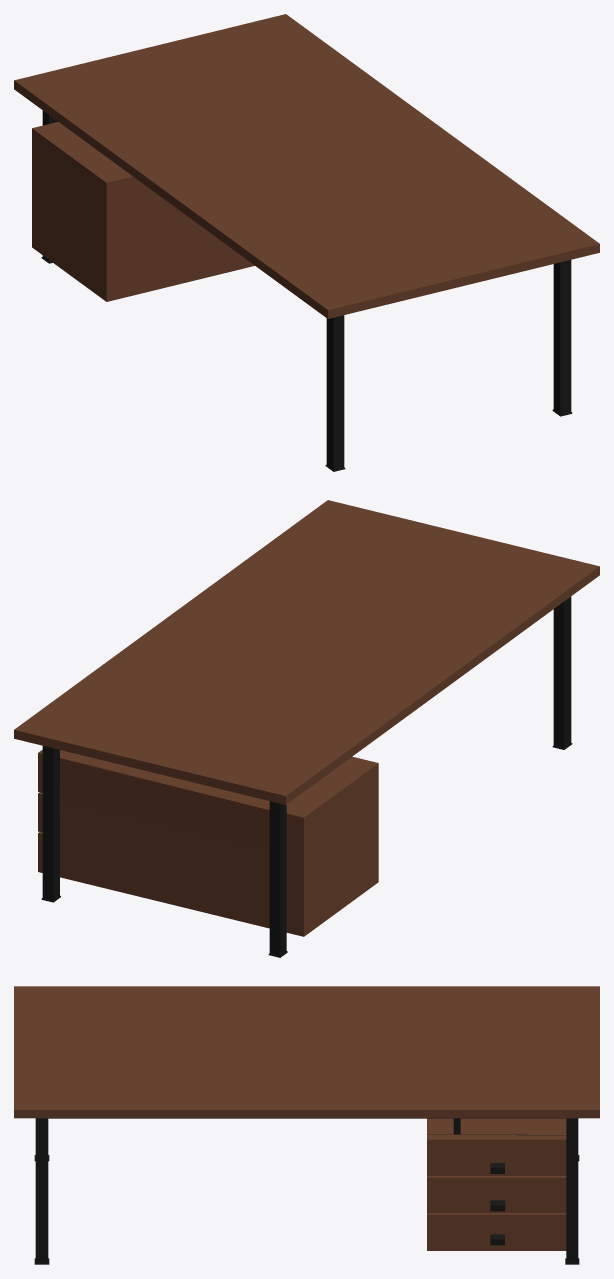
Rendered from Bureau-annees-80.glb.
3 renders of one model, top to bottom at view 1: azimuth 30°, elevation 25°; view 2: azimuth 150°, elevation 25°; view 3: azimuth 270°, elevation 25°, orthographic. The views are drawn at different scales.
Visible parts, largest first — view 1: Cube; view 2: Cube; view 3: Cube.
Boxes of the visible parts, x1=… form: Cube: x1=14, y1=14, x2=599, y2=471; Cube: x1=14, y1=500, x2=599, y2=957; Cube: x1=14, y1=986, x2=599, y2=1264.
Size of the model in its own units: 1.17 by 0.6996 by 2.29.
